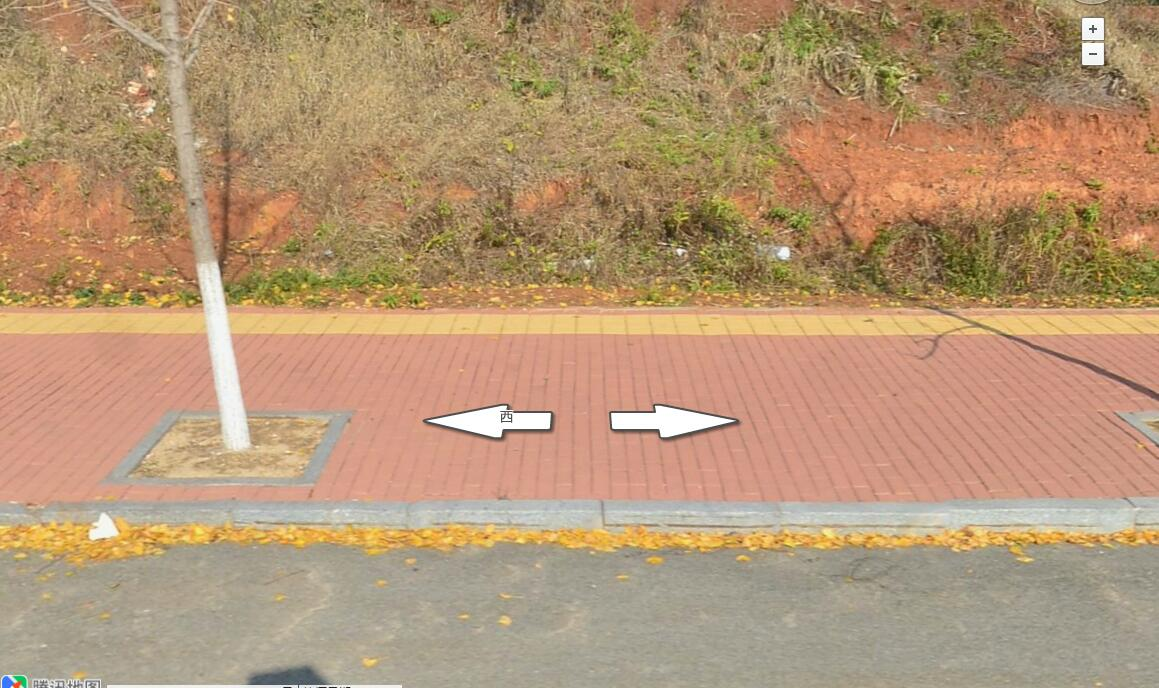side: (948, 499, 1141, 536), (410, 498, 606, 534), (785, 502, 949, 538), (603, 500, 785, 532), (231, 500, 411, 532)
